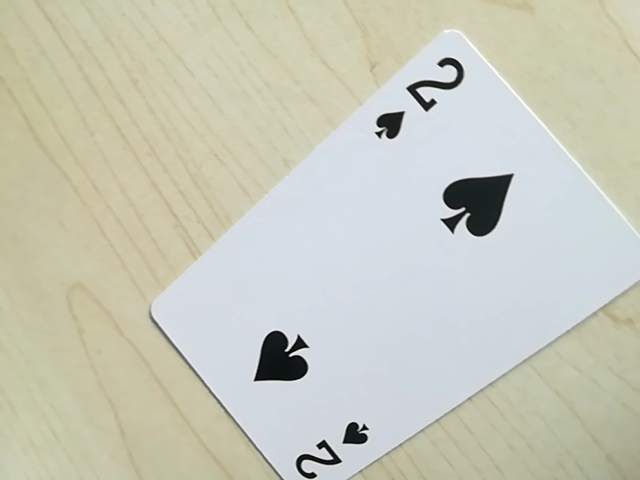ht 2: (369, 50, 473, 146), (283, 419, 372, 480)
